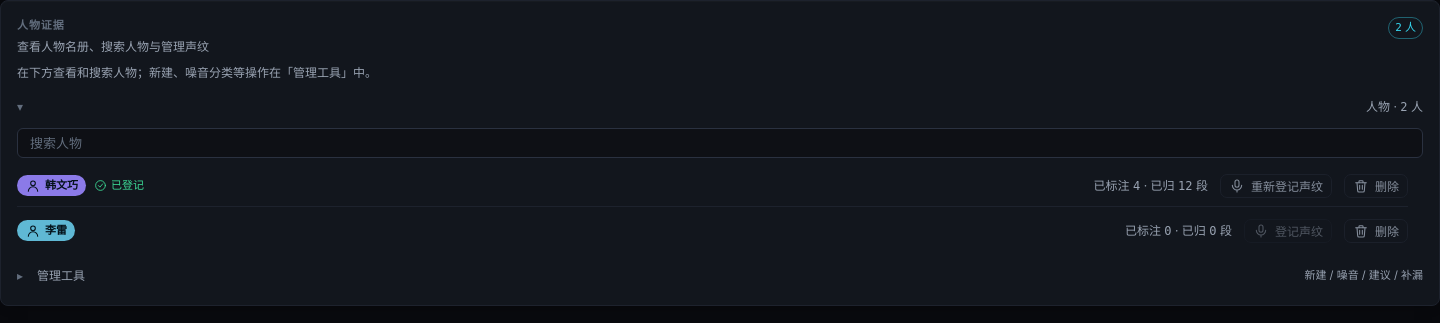
PeoplePanel › renders as an inspector with searchable people
This screenshot has width=1440, height=323.
Step 1. Type "韩" into the search field with placeholder "搜索人物" → [720, 142], box [17,128,1423,158]
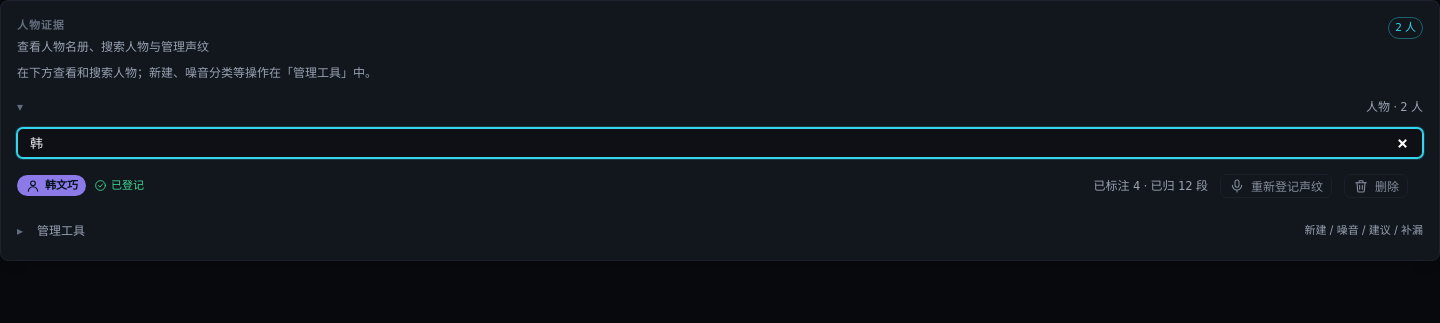
Check: the text "韩文巧" is shown, box [17,175,86,196]
Check: the text "李雷" is gone
